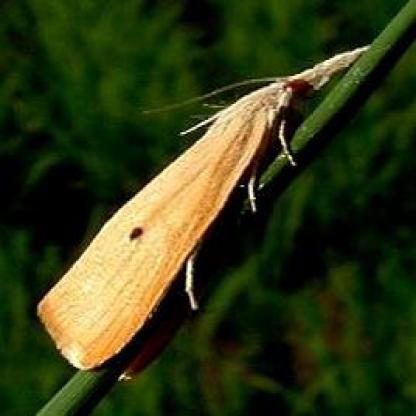stem-borer: (31, 40, 378, 378)
